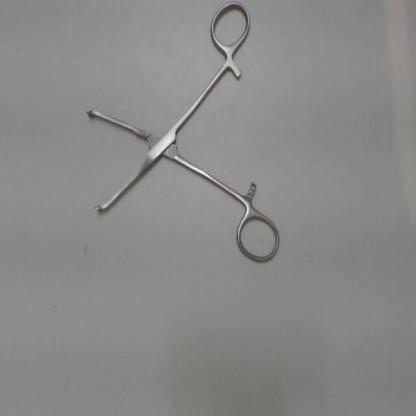Allis Tissue Forceps: (80, 1, 286, 269)
